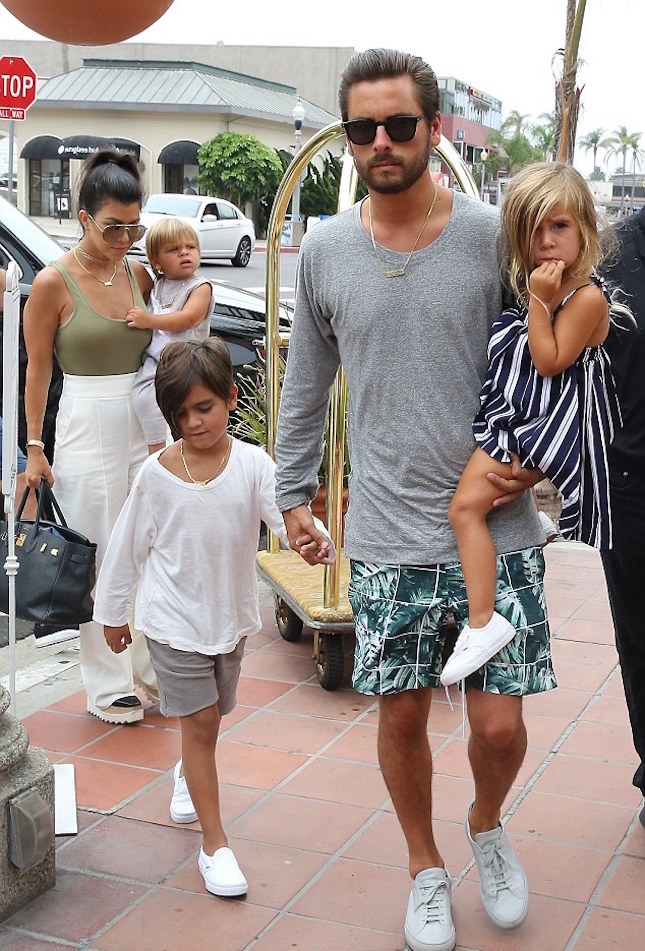Person: (275, 50, 515, 951), (100, 340, 282, 897), (441, 161, 619, 688), (23, 142, 153, 477), (141, 212, 216, 339)
